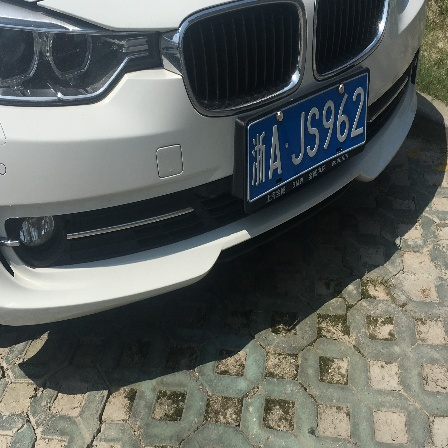plate: (241, 88, 374, 188)
